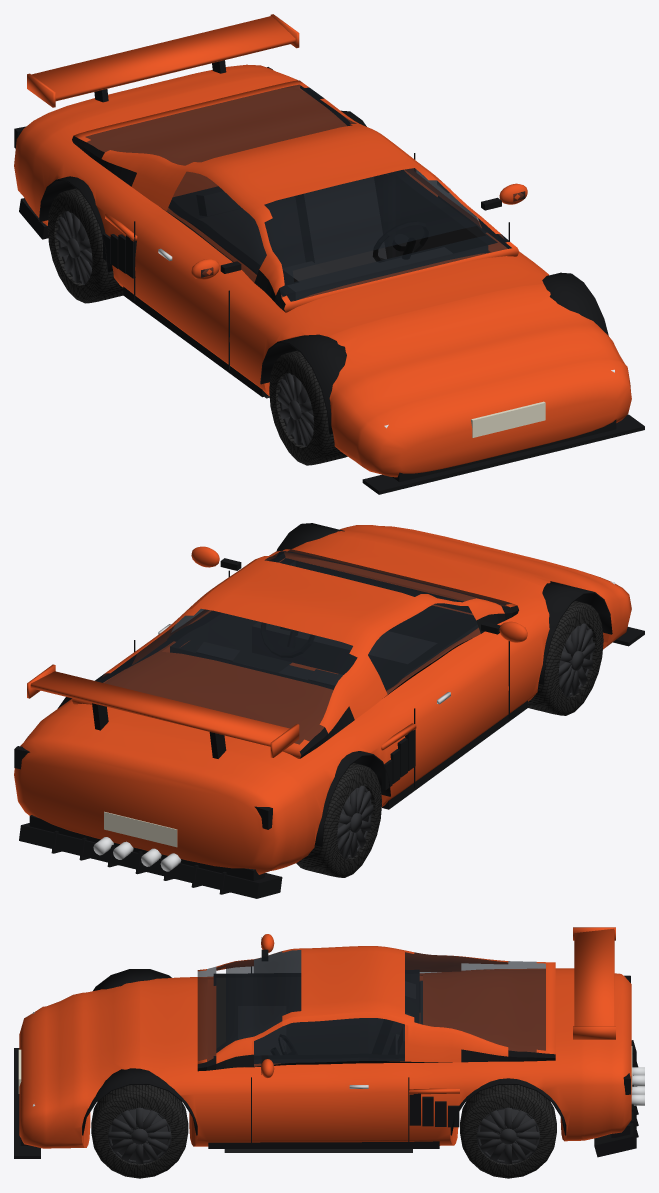
Rendered from car_super.glb.
3 views of the same model, one above another, from view 1: azimuth 30°, elevation 25°; view 2: azimuth 150°, elevation 25°; view 3: azimuth 270°, elevation 25° (orthographic). The views are drawn at different scales.
Parts seen in each view (by area): view 1: Body, wheel_RR, wheel_FR, Door_L; view 2: Body, wheel_RR, wheel_FR, Door_L; view 3: Body, Door_L, wheel_FL, wheel_RL.
Part boxes in pixels (x1,y1,x2,y2): Body: [14, 14, 644, 494]; wheel_RR: [47, 188, 123, 303]; wheel_FR: [269, 350, 347, 465]; Door_L: [367, 127, 527, 252]; Body: [14, 523, 644, 898]; wheel_RR: [296, 763, 381, 877]; wheel_FR: [528, 601, 603, 715]; Door_L: [158, 546, 259, 645]; Body: [14, 927, 644, 1158]; Door_L: [252, 1012, 408, 1141]; wheel_FL: [91, 1085, 188, 1178]; wheel_RL: [460, 1085, 556, 1178].
Bounding box in the file's own units: 2.4 × 1.21 × 4.69.
12 materials, 1 textured.
